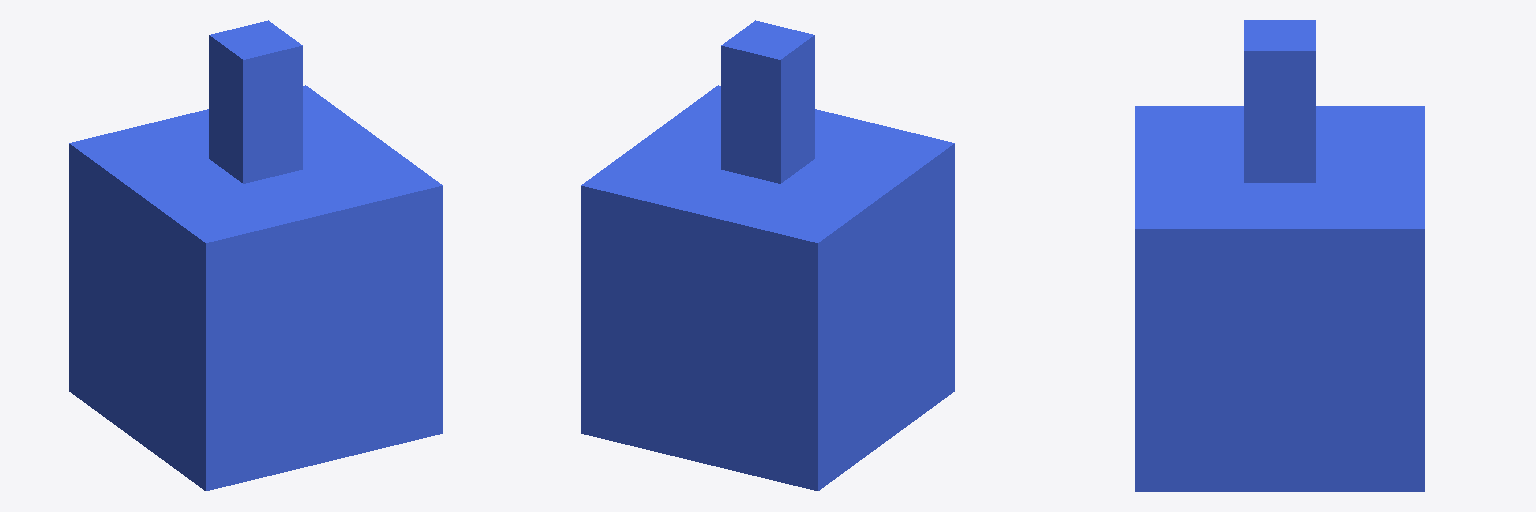
The robot description file, URDF, robot "elir_test":
<?xml version="1.0" ?>
<!-- =================================================================================== -->
<!-- |    This document was autogenerated by xacro from box.urdf.xacro                 | -->
<!-- |    EDITING THIS FILE BY HAND IS NOT RECOMMENDED                                 | -->
<!-- =================================================================================== -->
<robot name="elir_test" xmlns:xacro="http://www.ros.org/wiki/xacro">
  <material name="purple">
    <color rgba="0.6 0.352941176471 1.0 1.0"/>
  </material>
  <material name="blue">
    <color rgba="0.352941176471 0.505882352941 1.0 1.0"/>
  </material>
  <material name="light_blue">
    <color rgba="0.352941176471 1.0 0.850980392157 1.0"/>
  </material>
  <link name="victory_link0">
    <!-- This visual represents the base body-->
    <visual>
      <geometry>
        <box size="1 1 1"/>
      </geometry>
      <material name="blue"/>
      <origin rpy="0 0 0" xyz="0.0 0.0 0.5"/>
    </visual>
    <collision>
      <geometry>
        <box size="1 1 1"/>
      </geometry>
      <origin rpy="0 0 0" xyz="0.0 0.0 0.5"/>
    </collision>
  </link>
  <joint name="joint_0" type="revolute">
    <parent link="victory_link0"/>
    <child link="box_link1"/>
    <origin rpy="0 0 0" xyz="0 0 0.5"/>
    <limit effort="1000.0" lower="-3.14" upper="3.14" velocity="0.5"/>
    <axis xyz="0 0 1"/>
  </joint>
  <link name="box_link1">
    <!-- This visual represents the base body-->
    <visual>
      <geometry>
        <box size="0.25 0.25 1"/>
      </geometry>
      <origin rpy="0 0 0" xyz="0.0 0.0 0.5"/>
      <material name="blue"/>
    </visual>
    <collision>
      <geometry>
        <box size="0.5 0.5 2"/>
      </geometry>
      <origin rpy="0 0 0" xyz="0.0 0.0 1"/>
    </collision>
  </link>
</robot>

--- Render facts (derived) ---
Views: 3 orthographic renders of the robot side by side, from view 1: azimuth 30°, elevation 25°; view 2: azimuth 150°, elevation 25°; view 3: azimuth 270°, elevation 25°.
Model elir_test with 2 links and 1 joints (1 revolute), rooted at victory_link0, posed every joint at zero.
Links seen in each view (by area): view 1: victory_link0, box_link1; view 2: victory_link0, box_link1; view 3: victory_link0, box_link1.
Boxes of the visible links, x1=… form: victory_link0: x1=69, y1=85, x2=442, y2=490; box_link1: x1=209, y1=20, x2=302, y2=183; victory_link0: x1=581, y1=85, x2=954, y2=490; box_link1: x1=721, y1=20, x2=814, y2=183; victory_link0: x1=1135, y1=106, x2=1424, y2=491; box_link1: x1=1244, y1=20, x2=1315, y2=182.
Bounding box of the posed robot: 1 × 1 × 1.5 m (x, y, z).
Geometry: primitives only (box / cylinder / sphere), no mesh files.
